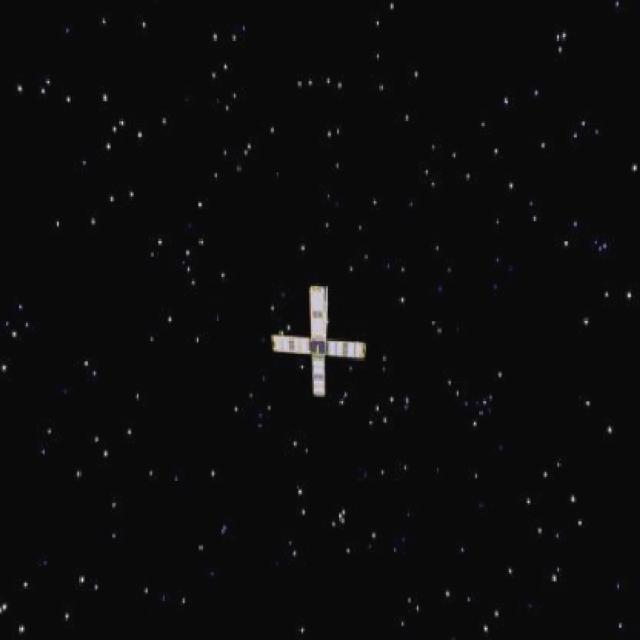medium_debris: (256, 281, 374, 400)
